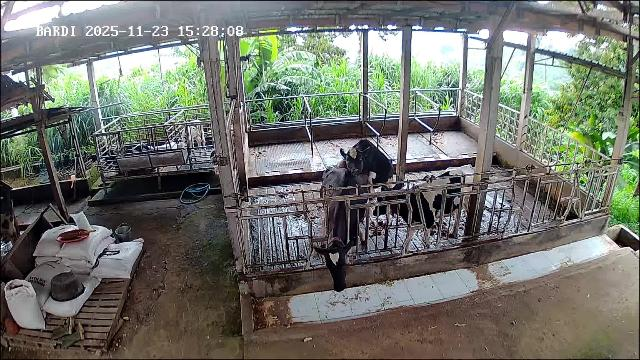mounting: (336, 137, 393, 221)
